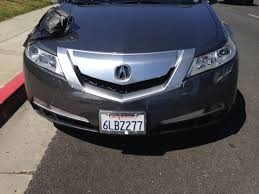Dent: (175, 77, 201, 95)
Scratch: (212, 64, 236, 85)
